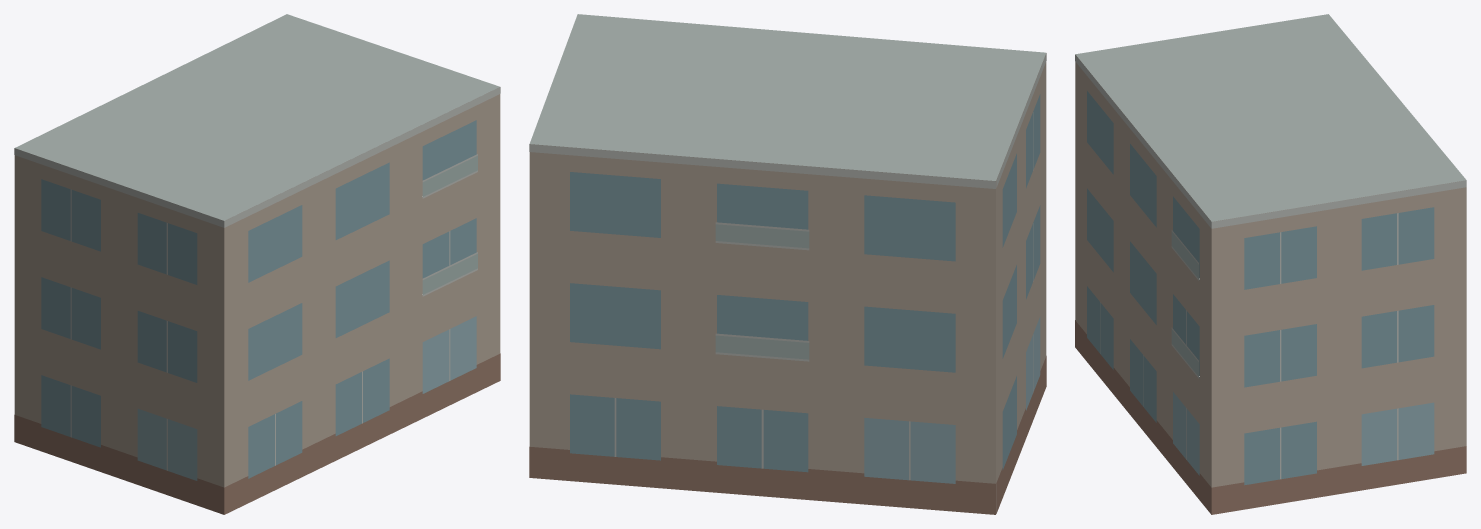
The model's file is survey-upis-32940098.glb.
3 views of the same model, side by side, from view 1: azimuth 30°, elevation 25°; view 2: azimuth 150°, elevation 25°; view 3: azimuth 270°, elevation 25° (orthographic). The views are drawn at different scales.
Parts seen in each view (by area): view 1: survey-upis-32940098.tmp; view 2: survey-upis-32940098.tmp; view 3: survey-upis-32940098.tmp.
Part boxes in pixels (x1,y1,x2,y2): survey-upis-32940098.tmp: (14, 14, 500, 514); survey-upis-32940098.tmp: (529, 14, 1046, 514); survey-upis-32940098.tmp: (1075, 14, 1466, 514).
Bounding box in the file's own units: 15.52 × 10.2 × 12.36.
